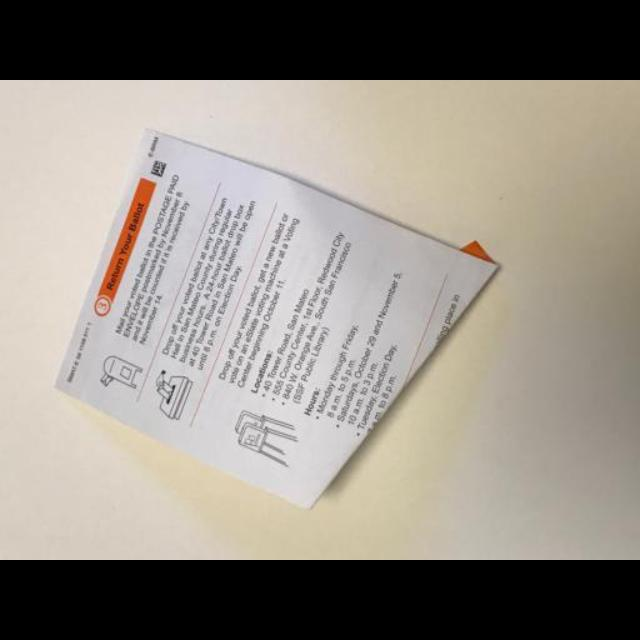papel: (54, 133, 493, 511)
